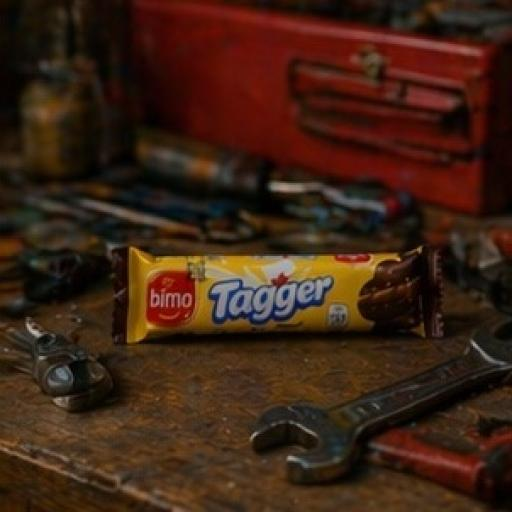tagger: (97, 192, 478, 402)
